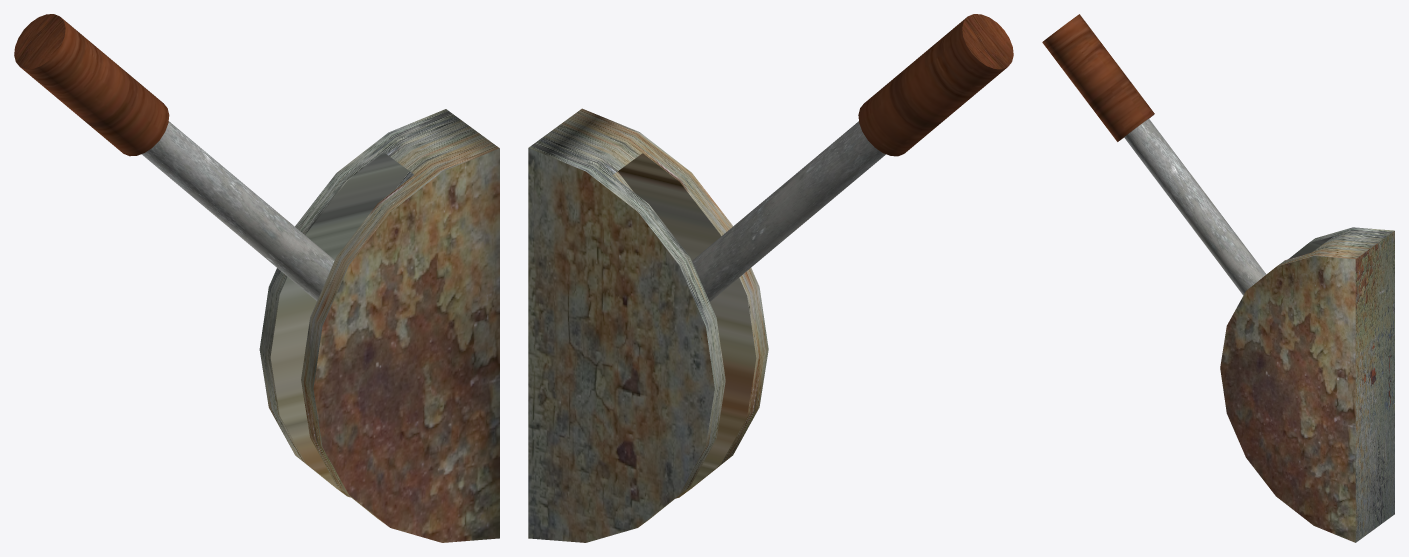
Rendered from Switch.fbx.
3 renders of one model, left to right at view 1: azimuth 30°, elevation 25°; view 2: azimuth 150°, elevation 25°; view 3: azimuth 330°, elevation 25°, orthographic. The views are drawn at different scales.
Visible parts, largest first — view 1: pCylinder2, pasted__pCylinder3; view 2: pCylinder2, pasted__pCylinder3; view 3: pCylinder2, pasted__pCylinder3.
Boxes of the visible parts, box(x1,y1,x2,y2) form: pCylinder2: box(259, 109, 499, 542); pasted__pCylinder3: box(14, 14, 334, 300); pCylinder2: box(528, 108, 768, 542); pasted__pCylinder3: box(692, 14, 1013, 301); pCylinder2: box(1220, 227, 1394, 542); pasted__pCylinder3: box(1042, 14, 1266, 295).
Bounding box in the file's own units: 2.43 × 3.09 × 0.5.
